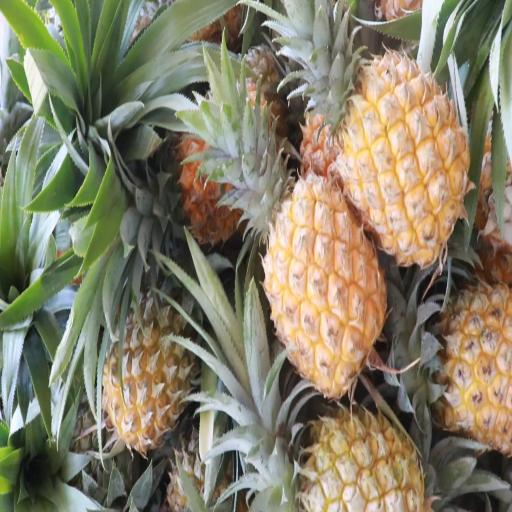Pineapple - v8 v1: (319, 54, 471, 270), (250, 162, 384, 383), (386, 283, 512, 445), (99, 249, 189, 438)
